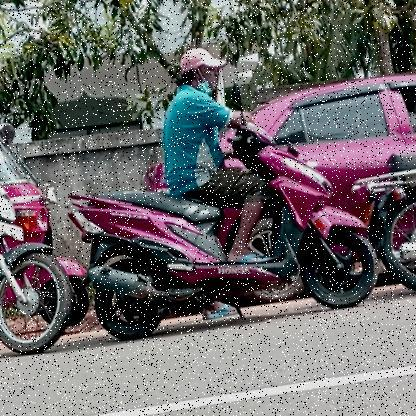motorcycle: (58, 90, 388, 348), (0, 146, 86, 392), (347, 64, 416, 300)
